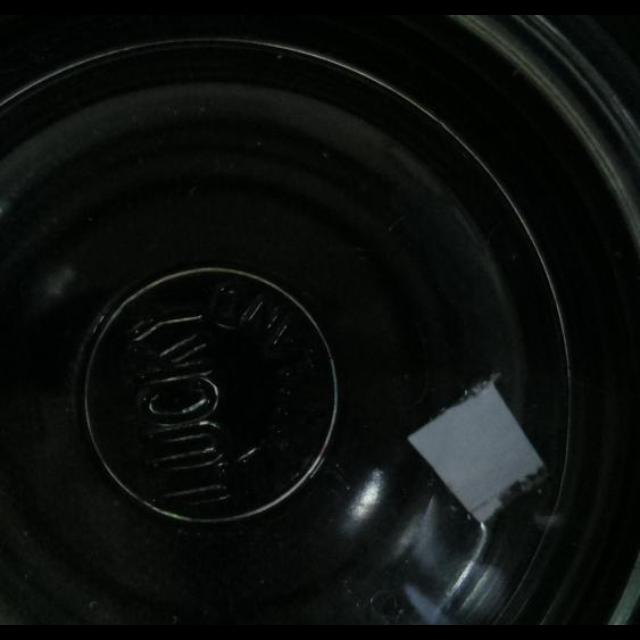Fragment: (404, 378, 544, 526)
